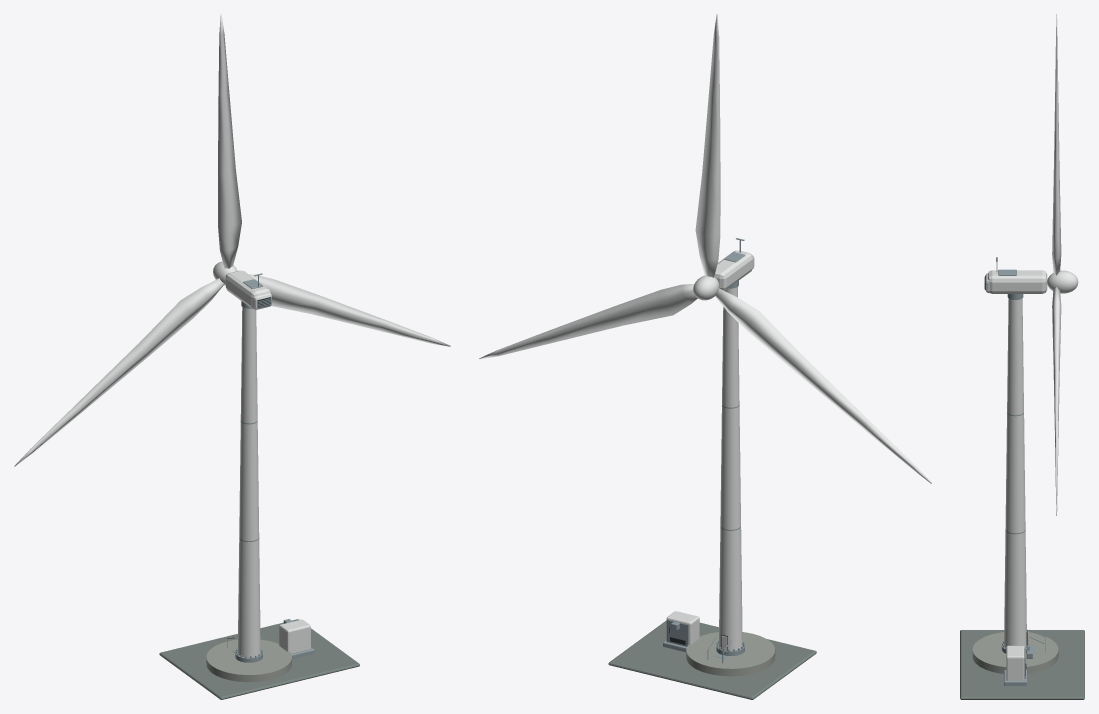
The model's file is wind_turbine.glb.
3 renders of one model, left to right at view 1: azimuth 30°, elevation 25°; view 2: azimuth 150°, elevation 25°; view 3: azimuth 270°, elevation 25°, orthographic. The views are drawn at different scales.
Parts seen in each view (by area): view 1: Structure, Blade_1, Blade_2, Blade_3; view 2: Structure, Blade_1, Blade_2, Blade_3; view 3: Structure, Blade_1, Blade_3, Spinner.
Part boxes in pixels (x1,y1,x2,y2): Structure: (159, 270, 359, 699); Blade_1: (218, 14, 241, 268); Blade_2: (14, 278, 223, 466); Blade_3: (249, 274, 450, 346); Structure: (608, 238, 816, 699); Blade_1: (695, 14, 720, 277); Blade_2: (715, 288, 931, 483); Blade_3: (479, 283, 697, 359); Structure: (960, 257, 1084, 699); Blade_1: (1052, 14, 1061, 275); Blade_3: (1052, 287, 1061, 515); Spinner: (1047, 270, 1078, 293).
Bounding box in the file's own units: 10.92 × 15.3 × 2.7.
